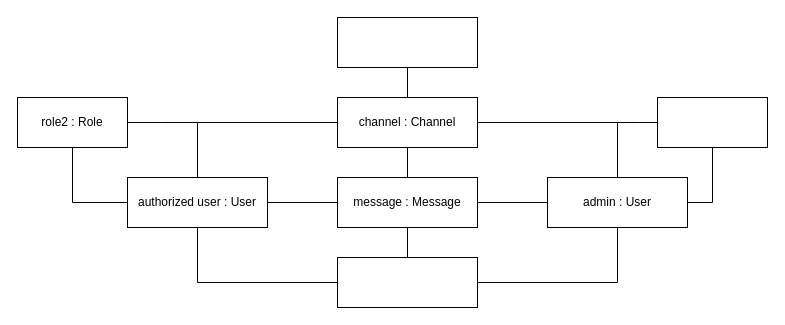
This 785x325 diagram has some shape labels left out. Each missing label, with the centre of its shape:
"chat : Chat" belongs at point 407,282.
"not authorized user" belongs at point 407,42.
"role1 : Role" belongs at point 712,122.
